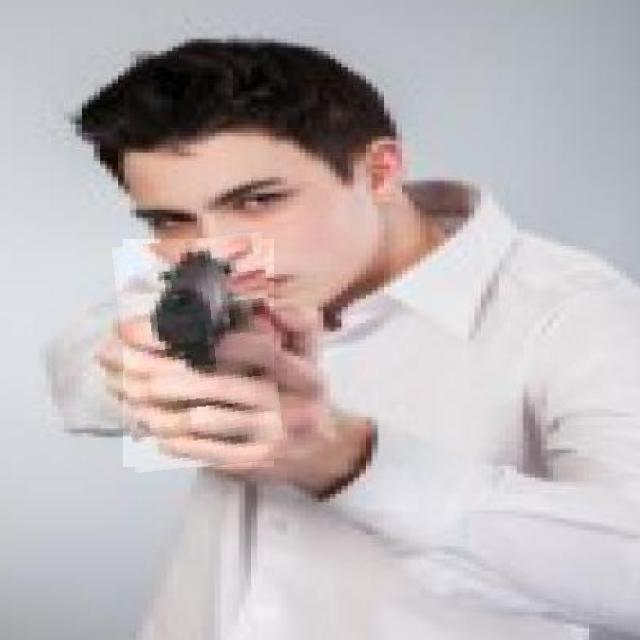handgun: (117, 236, 280, 471)
